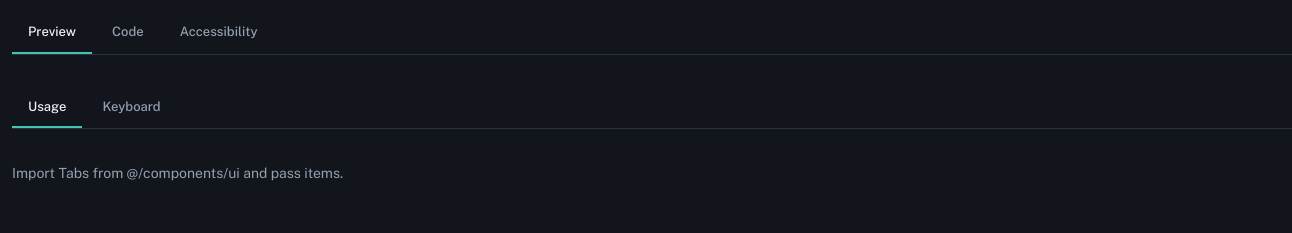
Scenario: TabsDoc › switches to the Accessibility tab and lists the a11y notes
Click the tab "Accessibility". click: {"x": 219, "y": 33}
box: [164,12,274,54]
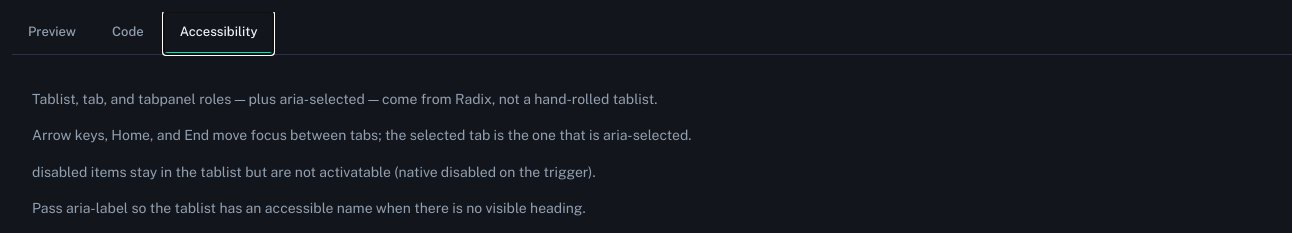
Expected: the list item "Tablist, tab, and tabpanel" is shown, [32,90,657,106]
Expected: the list item "Home, and End" is shown, [32,127,692,143]
